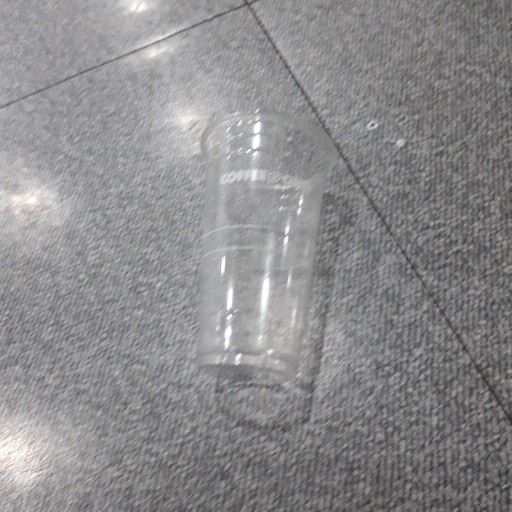Plastic_2: (198, 103, 330, 383)
